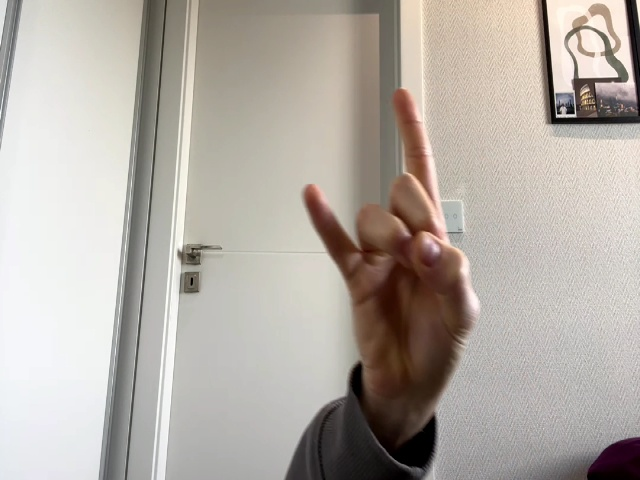Y: (301, 89, 480, 383)
